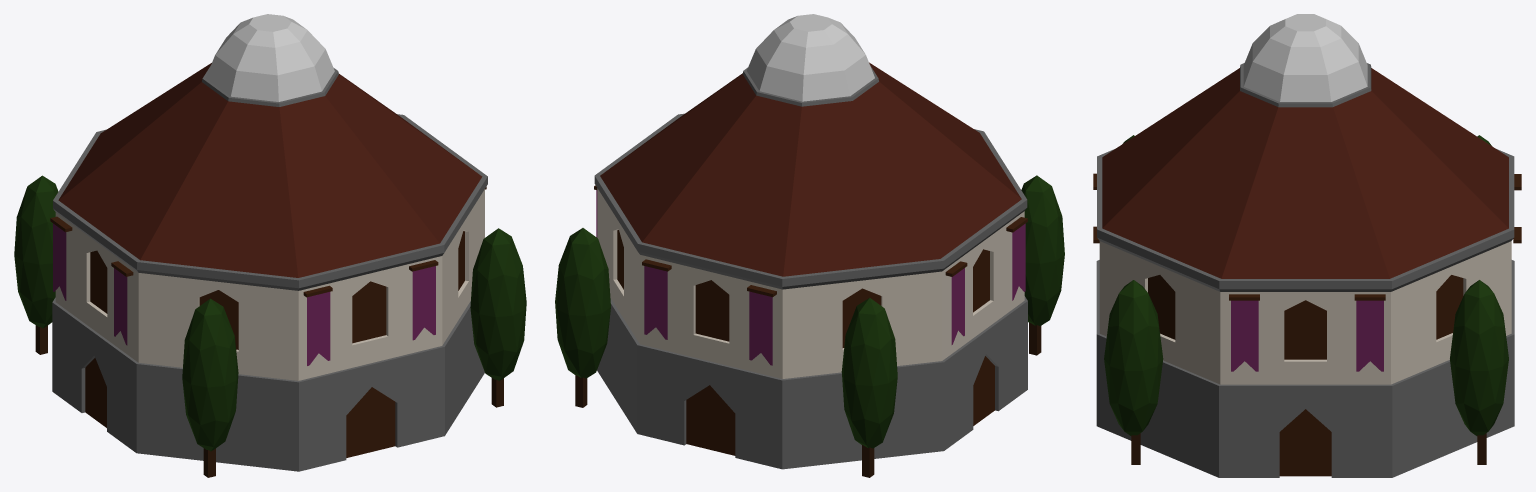
File: LibraryV1.fbx
The picture shows the model from 3 angles, left to right: view 1: azimuth 30°, elevation 25°; view 2: azimuth 150°, elevation 25°; view 3: azimuth 270°, elevation 25°; orthographic projection. The views are drawn at different scales.
Parts seen in each view (by area): view 1: Circle.025; view 2: Circle.025; view 3: Circle.025.
Boxes of the visible parts, x1,y1,x2,y2 form: Circle.025: (14,14,526,477); Circle.025: (555,14,1064,477); Circle.025: (1093,14,1521,477).
Bounding box in the file's own units: 206 × 196 × 206.
